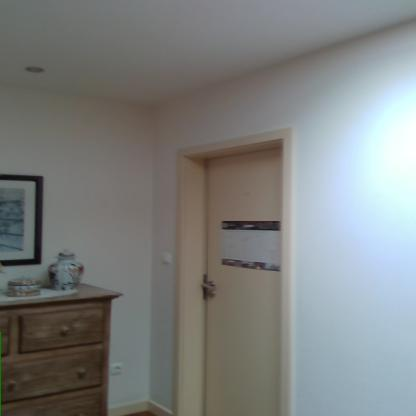closed: (162, 127, 316, 416)
